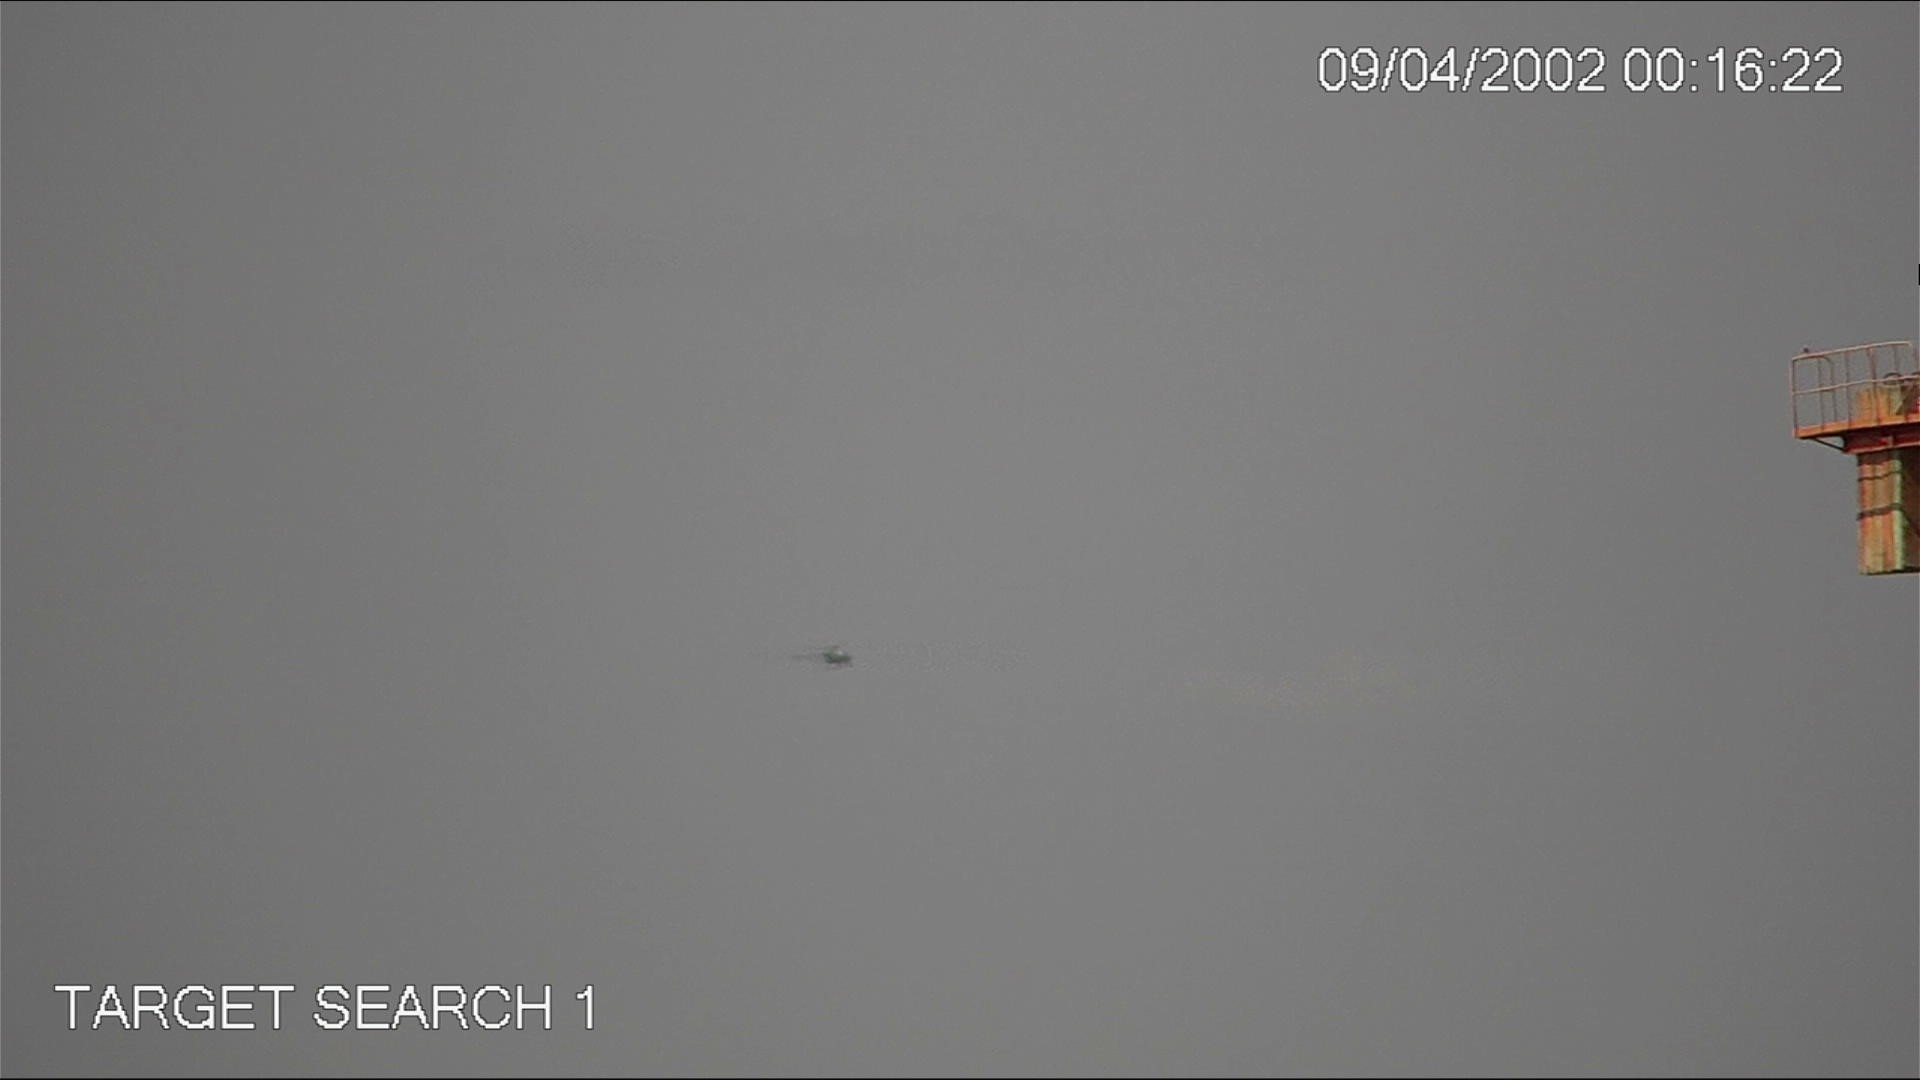SU_30: (815, 645, 858, 671)
